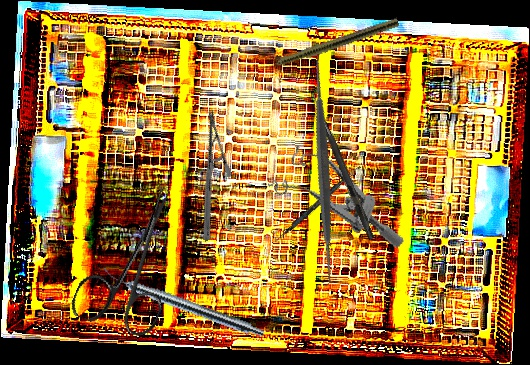Handpiece: (98, 265, 268, 341), (252, 15, 400, 77)
Hook Surgical: (307, 91, 377, 241)
Iris Scissors: (67, 171, 205, 345)
Needle Holder: (153, 110, 265, 242)
Spatula Surgical: (202, 50, 444, 293), (274, 163, 361, 245)
Speculum: (261, 139, 423, 250)
